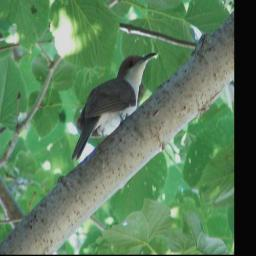Cuckoo: (70, 51, 159, 163)
